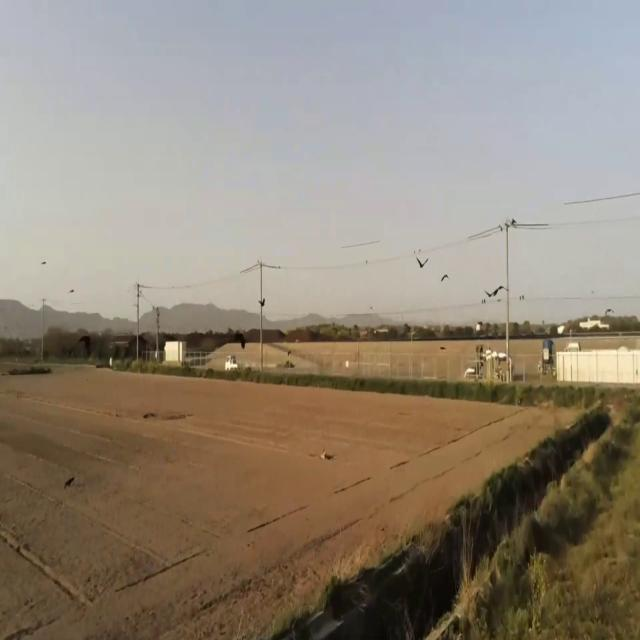bird: (485, 278, 505, 305), (415, 248, 429, 276), (440, 268, 449, 288), (259, 290, 266, 314), (69, 284, 75, 299)
